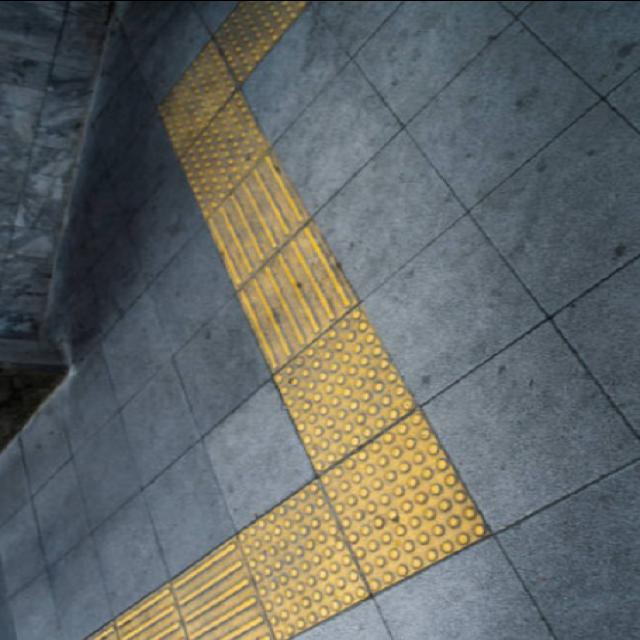tactile-guide-path: (236, 306, 489, 639), (159, 0, 309, 218), (207, 156, 356, 370), (86, 538, 272, 640)
